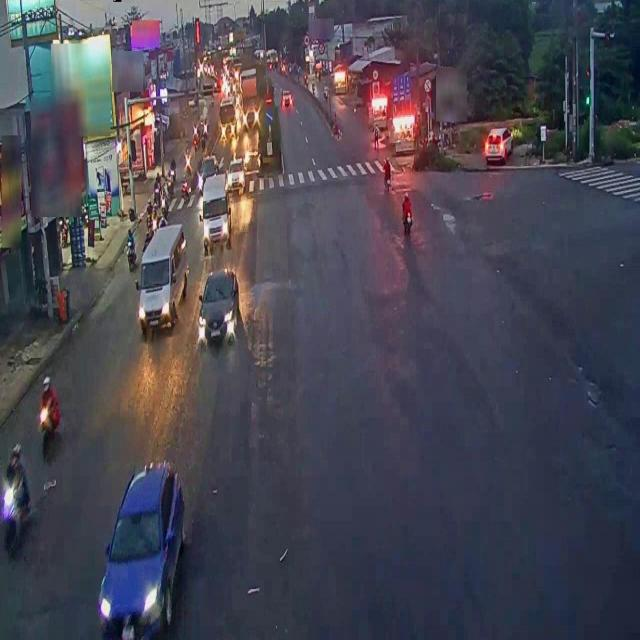car: (99, 461, 189, 640), (198, 269, 238, 344)
motorcycle: (0, 441, 33, 549), (37, 372, 61, 458)
truck: (139, 223, 187, 333), (202, 173, 231, 246)
